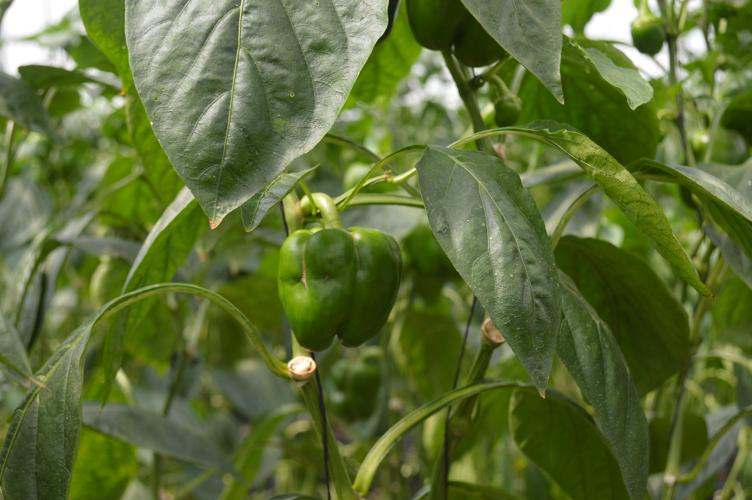BellPepper: (276, 226, 401, 348), (404, 4, 507, 66), (629, 17, 660, 57)
